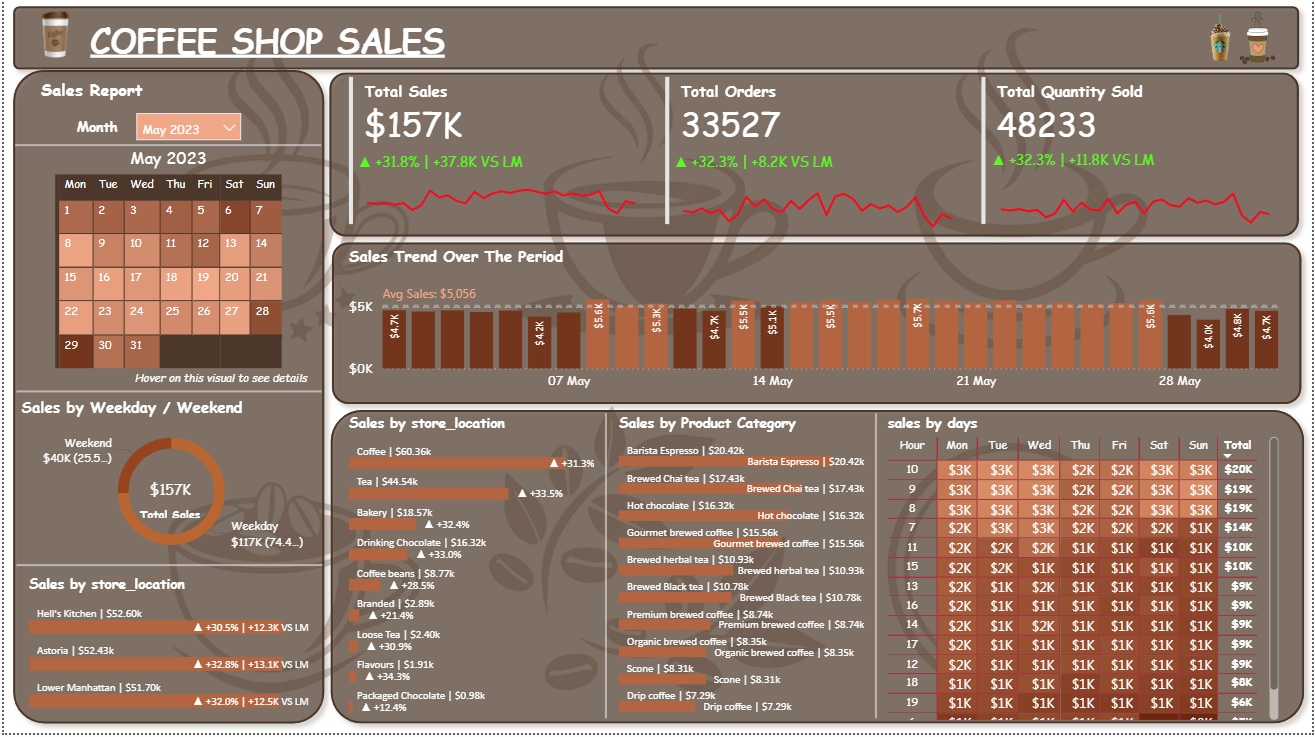

This screenshot's page, from the dashboard's own definition file:
{"tool":"powerbi","page":{"name":"Page 1","canvas":[1280,720],"ordinal":0},"visuals":[{"type":"shape","box":[310,395,970,325],"z":0},{"type":"shape","box":[309.4,64.8,966,178.5],"z":1000},{"type":"shape","box":[0,0,1276.2,80],"z":2000},{"type":"textbox","box":[79.5,14.7,375.4,56.3],"z":3000},{"type":"image","box":[9.8,8.6,80.7,56.3],"z":4000},{"type":"image","box":[1189.8,9.8,72.1,61.1],"z":5000},{"type":"image","box":[1156.8,9.8,64.8,61.1],"z":6000},{"type":"shape","box":[0,62.5,322.5,657.5],"z":7000},{"type":"slicer","fields":{"Values":["Date Table.Month Year"]},"box":[125,108.8,112.5,36.2],"z":8000},{"type":"group","id":"g1","title":"Group 1","box":[332.5,73.8,300,157.5],"z":9000},{"type":"cardVisual","fields":{"Data":["Transactions.Total Sales"]},"box":[332.5,73.8,299.6,154.1],"z":9000,"group":"g1"},{"type":"cardVisual","fields":{"Data":["Transactions.Total Orders"]},"box":[642.5,73.8,299.6,154.1],"z":9000,"group":"g2"},{"type":"cardVisual","fields":{"Data":["Transactions.Total Quantity Sold"]},"box":[951.2,73.8,299.6,154.1],"z":9000,"group":"g3"},{"type":"group","id":"g2","title":"Group 1","box":[642.5,73.8,300,158.8],"z":10000},{"type":"lineChart","fields":{"Category":["Date Table.Date.Variation.Date Hierarchy.Year","Date Table.Date.Variation.Date Hierarchy.Quarter","Date Table.Date.Variation.Date Hierarchy.Month","Date Table.Date.Variation.Date Hierarchy.Day"],"Y":["Transactions.Total Quantity Sold"]},"box":[960.9,150.4,291.2,80],"z":10001,"group":"g3"},{"type":"lineChart","fields":{"Category":["Date Table.Date.Variation.Date Hierarchy.Year","Date Table.Date.Variation.Date Hierarchy.Quarter","Date Table.Date.Variation.Date Hierarchy.Month","Date Table.Date.Variation.Date Hierarchy.Day"],"Y":["Transactions.Total Sales"]},"box":[341.1,152.1,291,79.5],"z":10001,"group":"g1"},{"type":"lineChart","fields":{"Category":["Date Table.Date.Variation.Date Hierarchy.Year","Date Table.Date.Variation.Date Hierarchy.Quarter","Date Table.Date.Variation.Date Hierarchy.Month","Date Table.Date.Variation.Date Hierarchy.Day"],"Y":["Transactions.Total Orders"]},"box":[651.1,152.1,291,79.5],"z":10001,"group":"g2"},{"type":"group","id":"g3","title":"Group 1","box":[951.2,73.8,300.9,156.6],"z":11000},{"type":"pivotTable","fields":{"Rows":["Date Table.Week Number"],"Columns":["Date Table.Day Name"],"Values":["Min(Date Table.Day Number)"]},"box":[45,168.8,258.8,206.2],"z":12000},{"type":"card","fields":{"Values":["Min(Date Table.Month Year)"]},"box":[110.1,145.5,101.5,26.9],"z":13000},{"type":"card","fields":{"Values":["Transactions.Foot Note"]},"box":[114.9,359.5,194.4,31.8],"z":14000},{"type":"shape","box":[11,135.7,299.6,18.3],"z":15000},{"type":"shape","box":[12.2,546.6,299.6,18.3],"z":16000},{"type":"donutChart","title":"Sales by Weekday / Weekend","fields":{"Category":["Date Table.Weekday / Weekend"],"Y":["Transactions.Total Sales"]},"box":[12.2,391.3,303.3,165.1],"z":17000},{"type":"card","fields":{"Values":["Transactions.Total Sales"]},"box":[124.7,469.6,75.8,45.2],"z":18000},{"type":"shape","box":[582.5,407.5,13.8,298.8],"z":19000},{"type":"clusteredBarChart","title":"Sales by store_location","fields":{"Category":["Transactions.store_location"],"Y":["Transactions.Placeholder","Transactions.Total Sales"]},"box":[20,565,283.8,137.5],"z":20000},{"type":"shape","box":[311.2,231,966.2,176.2],"z":21000},{"type":"columnChart","title":"Sales Trend Over The Period","fields":{"Category":["Transactions.transaction_date"],"Y":["Transactions.Total Sales"]},"box":[332.5,243.8,930,151.2],"z":22000},{"type":"shape","box":[12.5,376.2,298.8,18.8],"z":23000},{"type":"clusteredBarChart","title":"Sales by Product Category","fields":{"Y":["Transactions.Placeholder","Transactions.Total Sales"],"Category":["Transactions.product_type"]},"box":[596.2,407.5,250,297.5],"z":24000},{"type":"clusteredBarChart","title":"Sales by store_location","fields":{"Y":["Transactions.Placeholder","Transactions.Total Sales"],"Category":["Transactions.product_category"]},"box":[332.5,407.5,250,298.8],"z":25000},{"type":"shape","box":[846.2,407.5,13.8,298.8],"z":26000},{"type":"pivotTable","title":"sales by days","fields":{"Rows":["Transactions.Hour"],"Columns":["Date Table.Day Name"],"Values":["Transactions.Total Sales"]},"box":[860,407.5,392.5,305],"z":27000},{"type":"textbox","box":[61.2,112.5,60,30],"z":28000},{"type":"textbox","box":[20,75,132.5,33.8],"z":29000}]}

Visuals, with their boxes in screenshot pixels (x1, y1, x2, y2), scaled from the page's 1280x720 canvas onto the 1315x737 screenshot:
shape: [x1=318, y1=404, x2=1314, y2=736]
shape: [x1=318, y1=66, x2=1310, y2=249]
shape: [x1=0, y1=0, x2=1311, y2=82]
textbox: [x1=82, y1=15, x2=467, y2=73]
image: [x1=10, y1=9, x2=93, y2=66]
image: [x1=1222, y1=10, x2=1296, y2=73]
image: [x1=1188, y1=10, x2=1255, y2=73]
shape: [x1=0, y1=64, x2=331, y2=736]
slicer - Date Table.Month Year: [x1=128, y1=111, x2=244, y2=148]
"Group 1" group: [x1=342, y1=76, x2=650, y2=237]
cardVisual - Transactions.Total Sales: [x1=342, y1=76, x2=649, y2=233]
cardVisual - Transactions.Total Orders: [x1=660, y1=76, x2=968, y2=233]
cardVisual - Transactions.Total Quantity Sold: [x1=977, y1=76, x2=1285, y2=233]
"Group 1" group: [x1=660, y1=76, x2=968, y2=238]
lineChart - Date Table.Date.Variation.Date Hierarchy.Year x Date Table.Date.Variation.Date Hierarchy.Quarter: [x1=987, y1=154, x2=1286, y2=236]
lineChart - Date Table.Date.Variation.Date Hierarchy.Year x Date Table.Date.Variation.Date Hierarchy.Quarter: [x1=350, y1=156, x2=649, y2=237]
lineChart - Date Table.Date.Variation.Date Hierarchy.Year x Date Table.Date.Variation.Date Hierarchy.Quarter: [x1=669, y1=156, x2=968, y2=237]
"Group 1" group: [x1=977, y1=76, x2=1286, y2=236]
pivotTable - Date Table.Week Number x Date Table.Day Name: [x1=46, y1=173, x2=312, y2=384]
card - Min(Date Table.Month Year): [x1=113, y1=149, x2=217, y2=176]
card - Transactions.Foot Note: [x1=118, y1=368, x2=318, y2=401]
shape: [x1=11, y1=139, x2=319, y2=158]
shape: [x1=13, y1=560, x2=320, y2=578]
"Sales by Weekday / Weekend" donutChart: [x1=13, y1=401, x2=324, y2=570]
card - Transactions.Total Sales: [x1=128, y1=481, x2=206, y2=527]
shape: [x1=598, y1=417, x2=613, y2=723]
"Sales by store_location" clusteredBarChart: [x1=21, y1=578, x2=312, y2=719]
shape: [x1=320, y1=236, x2=1312, y2=417]
"Sales Trend Over The Period" columnChart: [x1=342, y1=250, x2=1297, y2=404]
shape: [x1=13, y1=385, x2=320, y2=404]
"Sales by Product Category" clusteredBarChart: [x1=613, y1=417, x2=869, y2=722]
"Sales by store_location" clusteredBarChart: [x1=342, y1=417, x2=598, y2=723]
shape: [x1=869, y1=417, x2=884, y2=723]
"sales by days" pivotTable: [x1=884, y1=417, x2=1287, y2=729]
textbox: [x1=63, y1=115, x2=125, y2=146]
textbox: [x1=21, y1=77, x2=157, y2=111]
